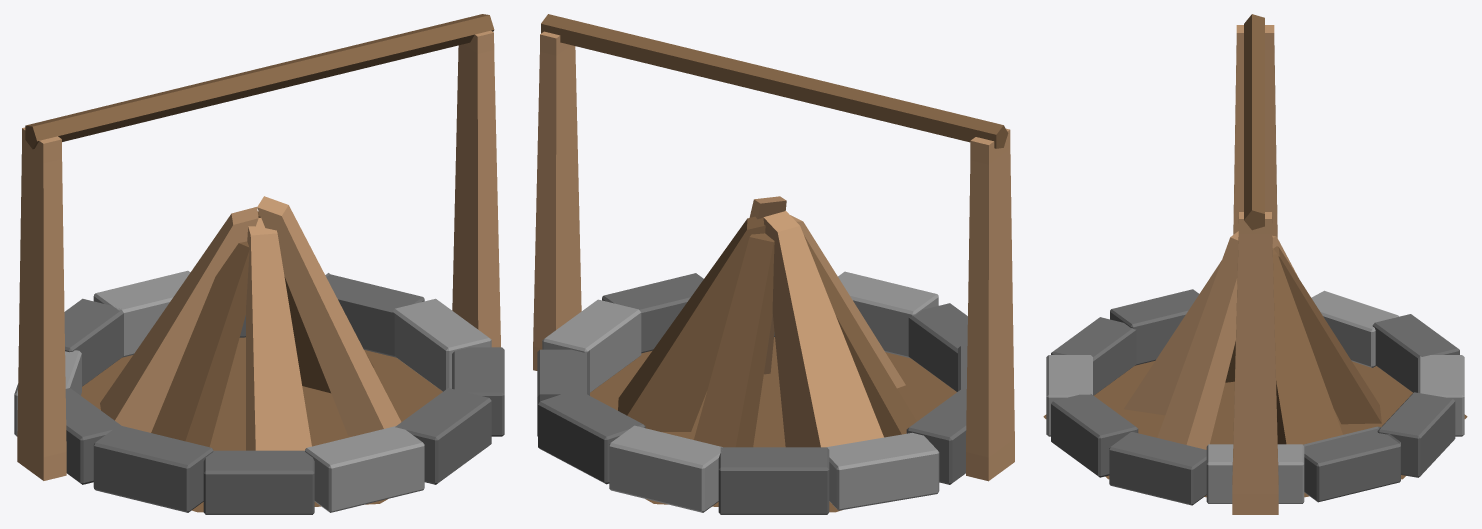
Rendered from campfire.glb.
3 renders of one model, left to right at view 1: azimuth 30°, elevation 25°; view 2: azimuth 150°, elevation 25°; view 3: azimuth 270°, elevation 25°, orthographic. The views are drawn at different scales.
Visible parts, largest first — view 1: Camp Fire; view 2: Camp Fire; view 3: Camp Fire.
Boxes of the visible parts, bbox=[...] form: Camp Fire: bbox=[14, 14, 504, 514]; Camp Fire: bbox=[533, 14, 1014, 514]; Camp Fire: bbox=[1043, 14, 1467, 514].
Bounding box in the file's own units: 200 × 145 × 183.
